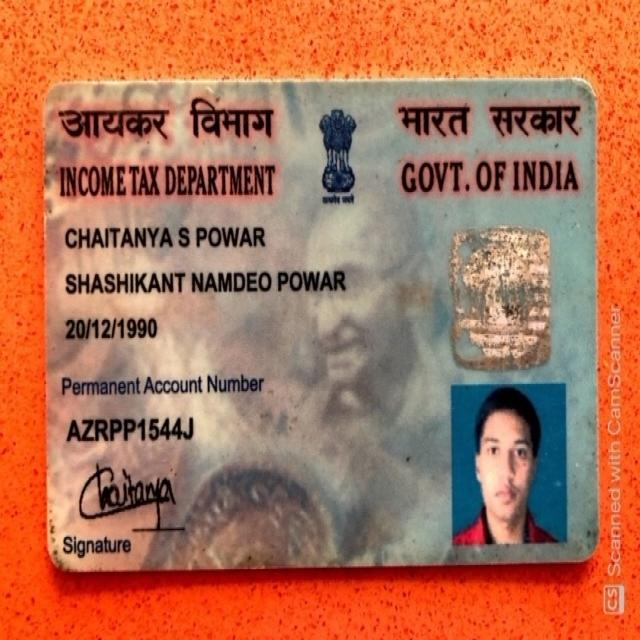pan_card: (47, 80, 592, 572)
